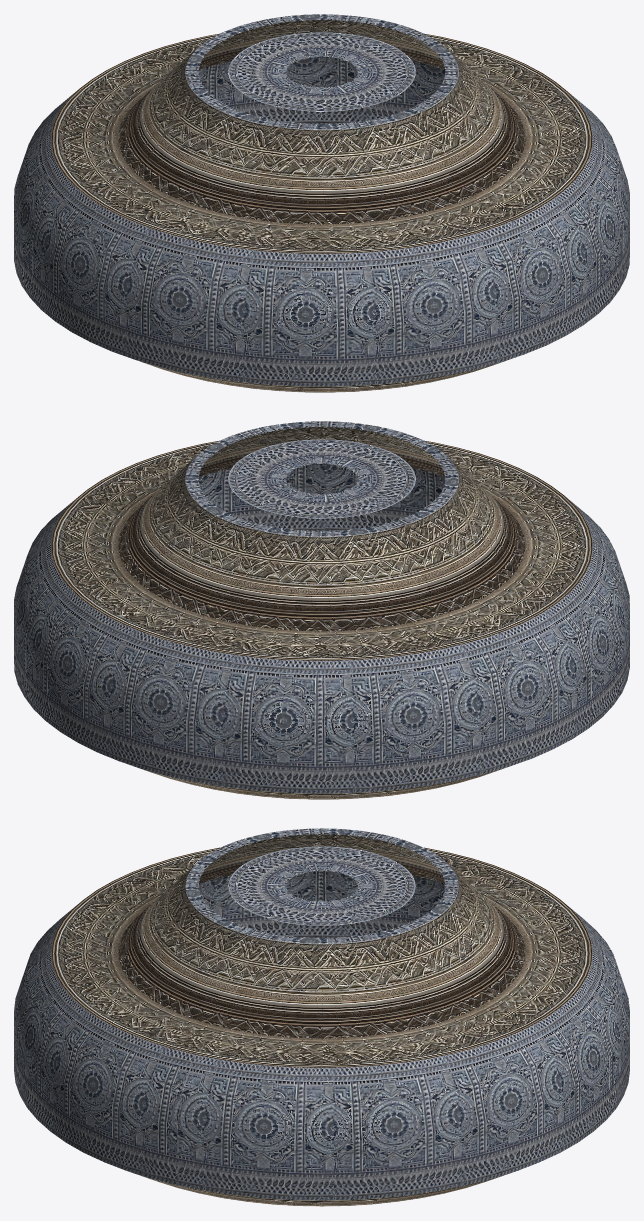
3 views of the same model, one above another, from view 1: azimuth 30°, elevation 25°; view 2: azimuth 150°, elevation 25°; view 3: azimuth 270°, elevation 25° (orthographic).
Parts seen in each view (by area): view 1: TEMPLE.009, TEMPLE.003; view 2: TEMPLE.009, TEMPLE.003; view 3: TEMPLE.009, TEMPLE.003.
Part boxes in pixels (x1,y1,x2,y2): TEMPLE.009: [14, 14, 629, 386]; TEMPLE.003: [51, 14, 592, 392]; TEMPLE.009: [14, 421, 629, 793]; TEMPLE.003: [51, 421, 592, 799]; TEMPLE.009: [14, 828, 629, 1200]; TEMPLE.003: [51, 828, 592, 1206].
Bounding box in the file's own units: 172 × 70.38 × 172.
7 materials, 4 textured.
